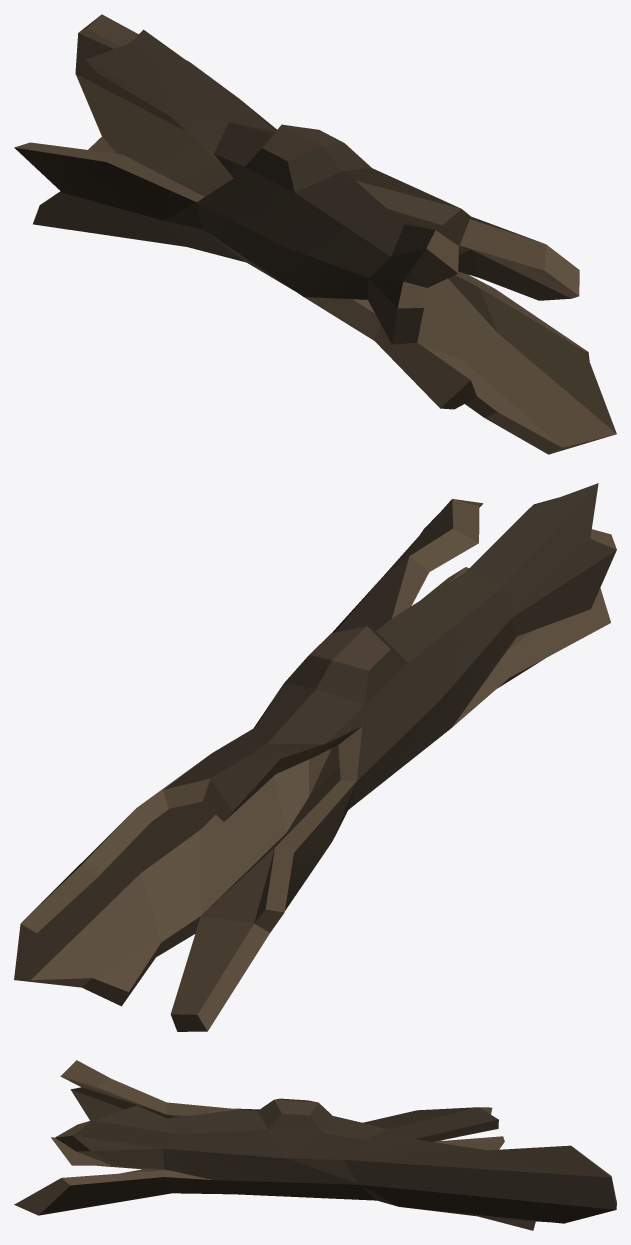
Rendered from synty-tree-log-02.gltf.
3 renders of one model, top to bottom at view 1: azimuth 30°, elevation 25°; view 2: azimuth 150°, elevation 25°; view 3: azimuth 270°, elevation 25°, orthographic. The views are drawn at different scales.
Visible parts, largest first — view 1: SM_Tree_Log_02; view 2: SM_Tree_Log_02; view 3: SM_Tree_Log_02.
Boxes of the visible parts, x1,y1,x2,y2 form: SM_Tree_Log_02: [14, 14, 616, 454]; SM_Tree_Log_02: [14, 483, 616, 1031]; SM_Tree_Log_02: [14, 1060, 616, 1230].
Size of the model in its own units: 0.555 by 0.691 by 2.34.
Materials: 1 (1 with a texture image).
